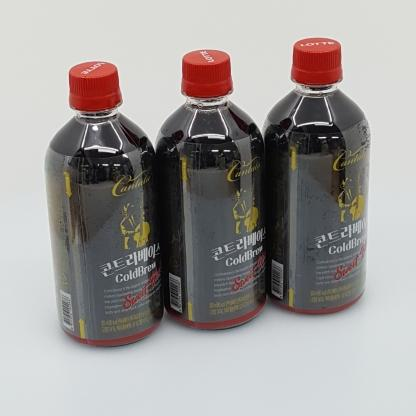-------------------500ML: (44, 61, 164, 348), (151, 50, 267, 331), (259, 37, 370, 315)
